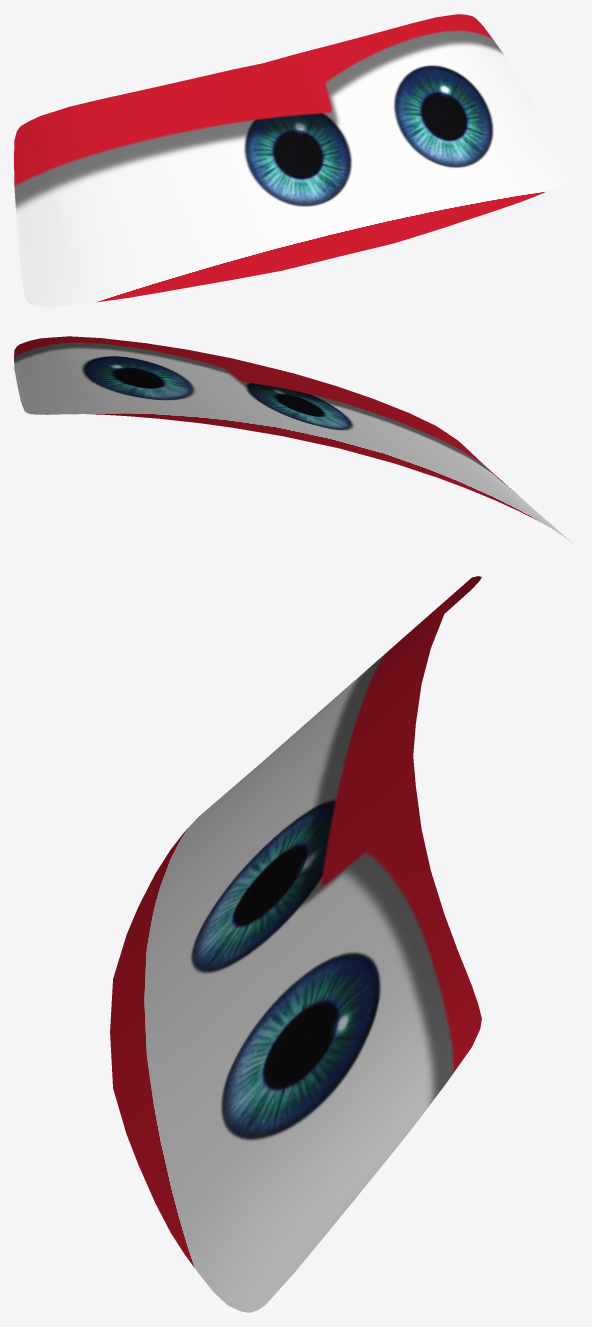
The model's file is object_14.002_lev2.glb.
3 views of the same model, one above another, from view 1: azimuth 30°, elevation 25°; view 2: azimuth 150°, elevation 25°; view 3: azimuth 270°, elevation 25° (orthographic). The views are drawn at different scales.
Visible parts, largest first — view 1: object_14.002_lev2; view 2: object_14.002_lev2; view 3: object_14.002_lev2.
Boxes of the visible parts, <box> form: object_14.002_lev2: <box>14,14,577,307</box>; object_14.002_lev2: <box>14,336,573,543</box>; object_14.002_lev2: <box>110,576,481,1312</box>.
Size of the model in its own units: 1.48 by 0.3769 by 0.4312.
Materials: 1 (1 with a texture image).
